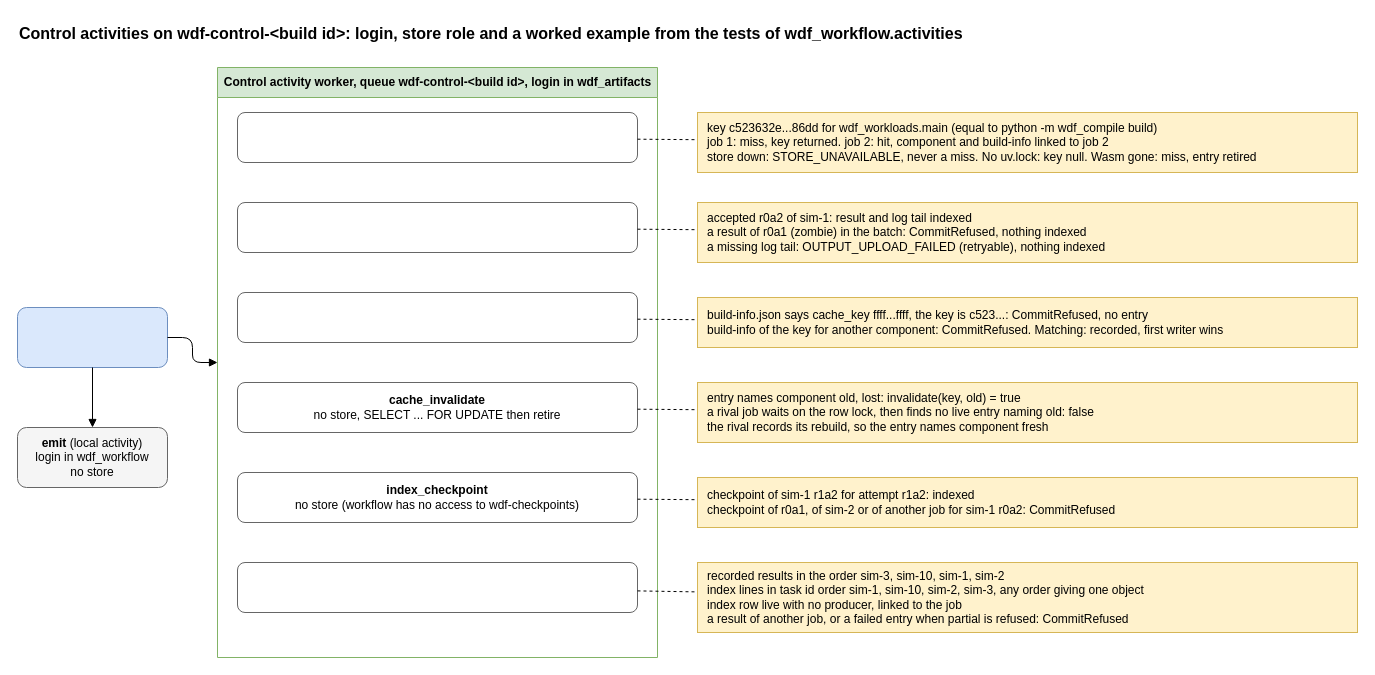
Image size: 1375x675. Some labels were removed from this diagram. The centre of each missing label's shape, as x and y in pixels:
"build_index store: indexer (put_index), workflow (commit with no attempt)" goes at (x=437, y=587).
"cache_lookup store: workflow (reads the bundle, HEADs the wasm)" goes at (x=437, y=137).
"cache_record store: workflow (reads build-info.json)" goes at (x=437, y=317).
"commit store: workflow (HEAD of each output)" goes at (x=437, y=227).
"JobWorkflow queue wdf-workflow" goes at (x=92, y=337).
